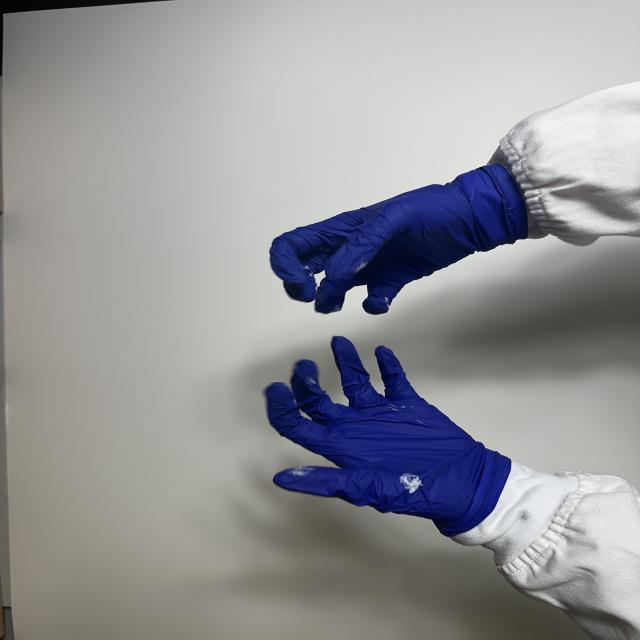gloves_contaminated: (266, 338, 509, 534), (271, 164, 528, 314)
